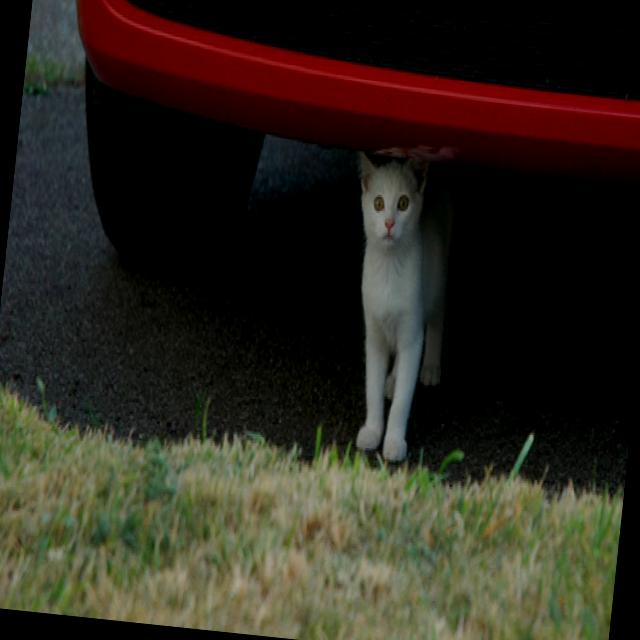Vehicle: (43, 0, 640, 312)
